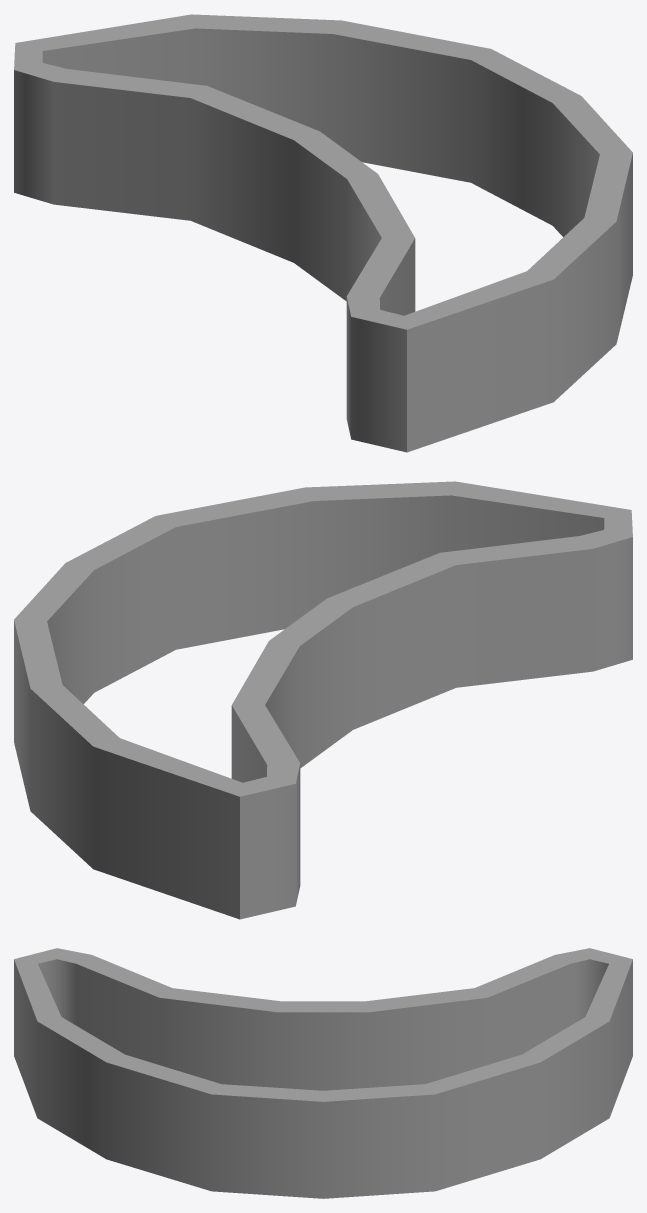
The model's file is BiscuitCutter_Moon_01.fbx.
The picture shows the model from 3 angles, top to bottom: view 1: azimuth 30°, elevation 25°; view 2: azimuth 150°, elevation 25°; view 3: azimuth 270°, elevation 25°; orthographic projection. The views are drawn at different scales.
Visible parts, largest first — view 1: BiscuitCutter_Moon_01; view 2: BiscuitCutter_Moon_01; view 3: BiscuitCutter_Moon_01.
Part boxes in pixels (x1,y1,x2,y2): BiscuitCutter_Moon_01: (14,14,632,452); BiscuitCutter_Moon_01: (14,481,632,919); BiscuitCutter_Moon_01: (14,948,632,1198).
Bounding box in the file's own units: 0.0434 × 0.0128 × 0.0738.
